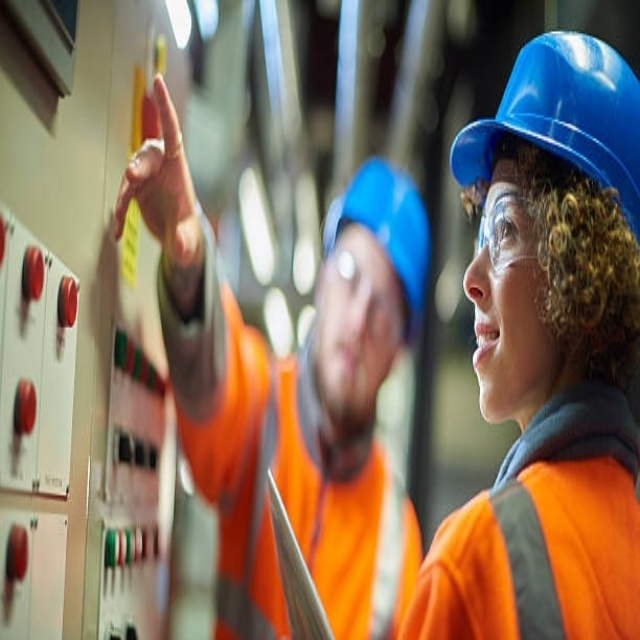Gafas: (466, 189, 540, 271)
Sin_guantes: (113, 67, 200, 256)
Sin_mascara: (466, 294, 509, 420)
